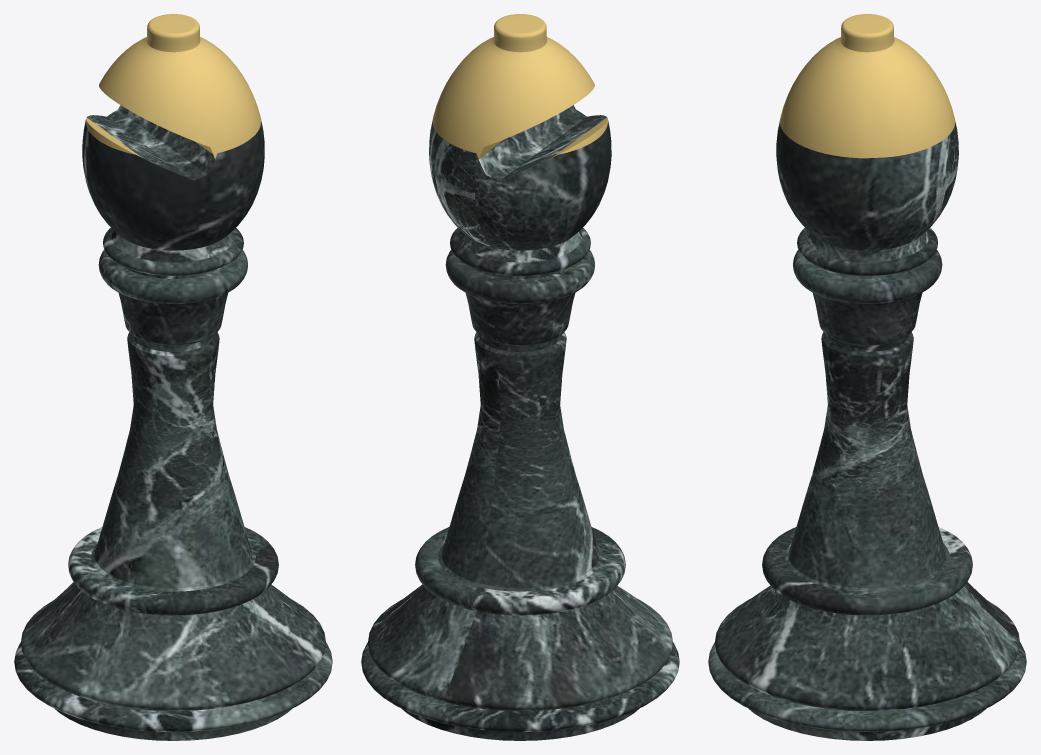
The picture shows the model from 3 angles, left to right: view 1: azimuth 30°, elevation 25°; view 2: azimuth 150°, elevation 25°; view 3: azimuth 270°, elevation 25°; orthographic projection.
Parts seen in each view (by area): view 1: x; view 2: x; view 3: x.
Part boxes in pixels (x1,y1,x2,y2): x: (14,14,332,740); x: (361,14,679,740); x: (708,14,1026,740).
Size of the model in its own units: 0.3922 by 0.9 by 0.3922.
2 materials, 1 textured.
